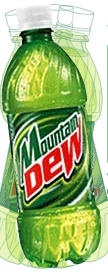grozi_105: (0, 4, 101, 269)
